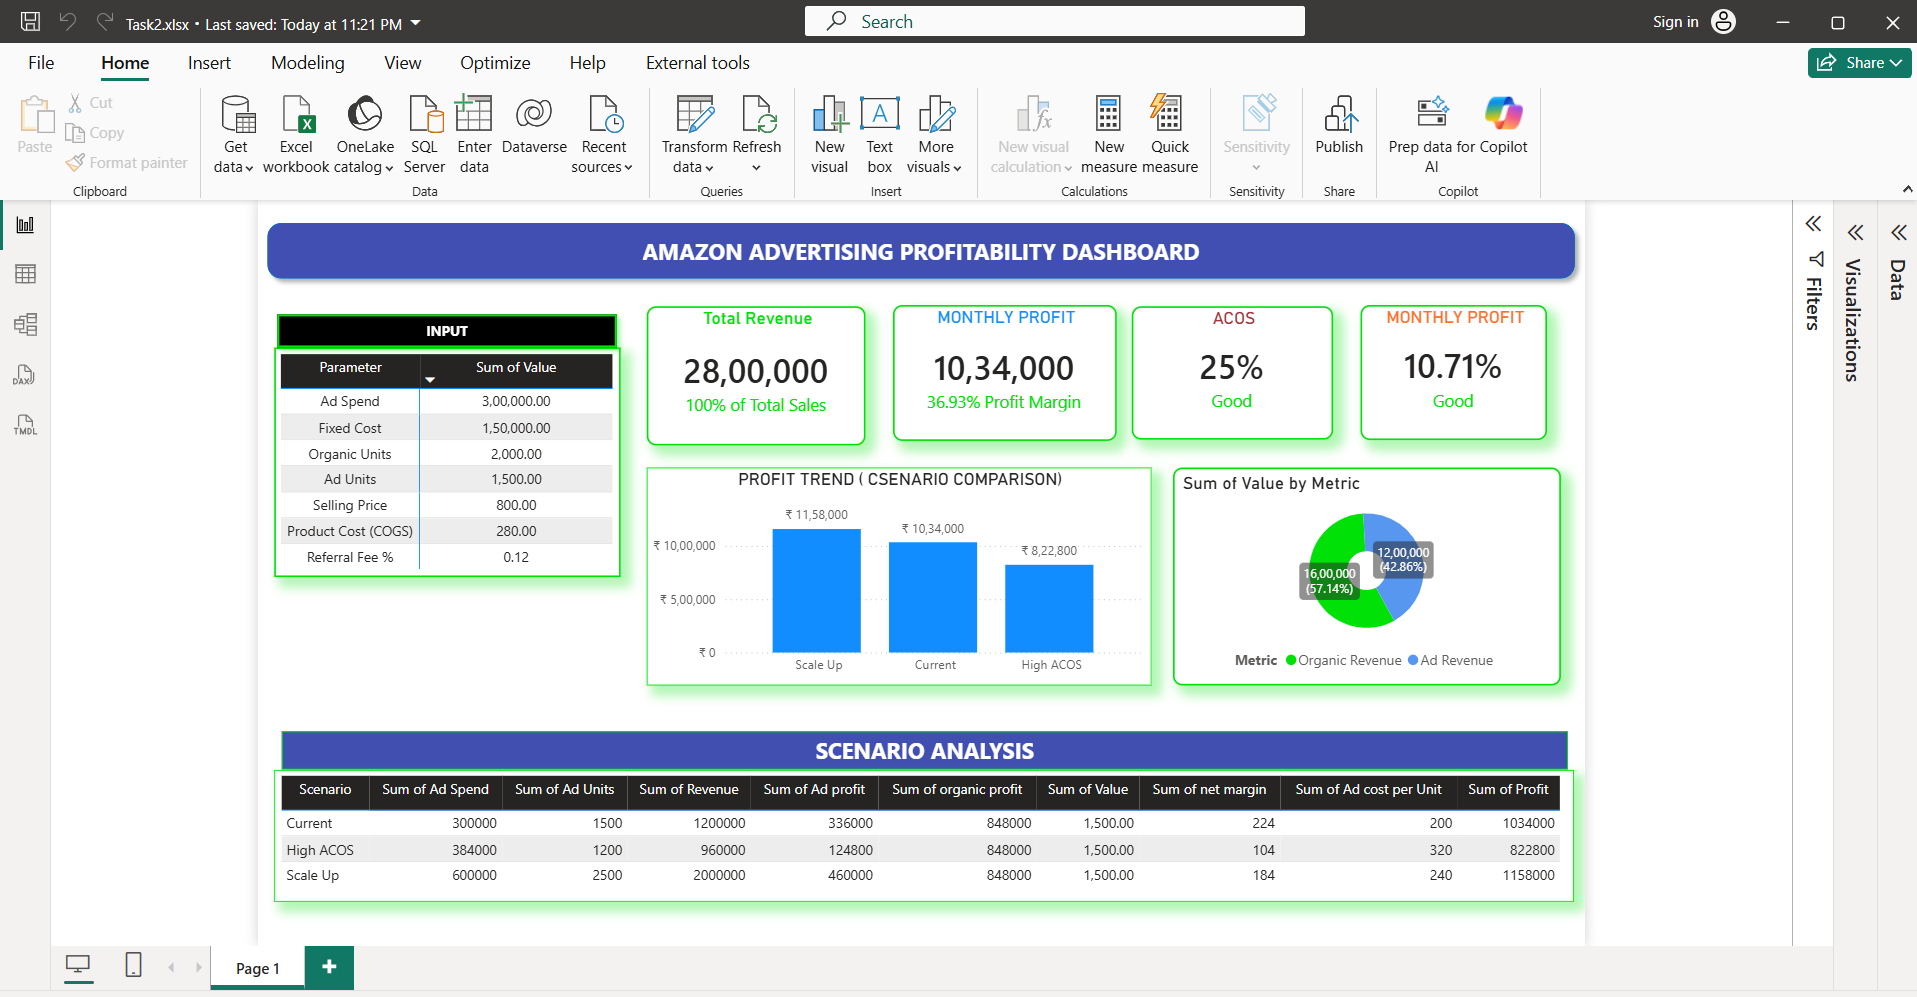

The dashboard page shown, as its layout file describes it:
{"tool":"powerbi","page":{"name":"Page 1","canvas":[1280,720],"ordinal":0},"visuals":[{"type":"cardVisual","title":"Total Revenue","fields":{"Data":["Sum(Sheet4.Value)"]},"box":[375.7,102.9,211.4,134.3],"z":0},{"type":"cardVisual","title":"MONTHLY PROFIT","fields":{"Data":["Sum(Sheet4.Value)"]},"box":[612.9,101.4,215.7,131.4],"z":1000},{"type":"cardVisual","title":"ACOS","fields":{"Data":["Sum(Sheet4.Value)"]},"box":[842.9,102.9,194.3,128.6],"z":2000},{"type":"cardVisual","title":"MONTHLY PROFIT","fields":{"Data":["Sum(Sheet4.Value)"]},"box":[1064.3,101.4,180,130],"z":3000},{"type":"donutChart","fields":{"Y":["Sum(Sheet3.Value)"],"Category":["Sheet3.Metric"]},"box":[882.9,258.6,374.3,210],"z":4000},{"type":"lineClusteredColumnComboChart","title":"PROFIT TREND ( CSENARIO COMPARISON)","fields":{"Category":["Sheet7.Scenario"],"Y":["Sum(Sheet7.Profit)"]},"box":[375.7,258.6,487.1,210],"z":5000},{"type":"pivotTable","fields":{"Rows":["Sheet1.Parameter"],"Values":["Sum(Sheet1.Value)"]},"box":[15.7,142.9,334.3,221.4],"z":6000},{"type":"shape","box":[10,101.4,345.7,50],"z":6001},{"type":"shape","box":[0,12.9,1280,71.4],"z":6002},{"type":"shape","box":[22.9,512.9,1241.4,37.1],"z":6003},{"type":"tableEx","fields":{"Values":["Sheet7.Scenario","Sum(Sheet7.Ad Spend)","Sum(Sheet7.Ad Units)","Sum(Sheet7.Revenue)","Sum(Sheet7.Ad profit)","Sum(Sheet7.organic profit)","Sum(Sheet1.Value)","Sum(Sheet7.net margin)","Sum(Sheet7.Ad cost per Unit)","Sum(Sheet7.Profit)"]},"box":[15.7,550,1254.3,127.1],"z":6004}]}

Visuals, with their boxes on the page's 1280x720 design canvas (x1, y1, x2, y2). These are canvas units, not pixel positions in the 1917x997 screenshot, which may show the page scaled, cropped or inside an application window:
"Total Revenue" cardVisual: Rect(376, 103, 587, 237)
"MONTHLY PROFIT" cardVisual: Rect(613, 101, 829, 233)
"ACOS" cardVisual: Rect(843, 103, 1037, 232)
"MONTHLY PROFIT" cardVisual: Rect(1064, 101, 1244, 231)
donutChart - Sum(Sheet3.Value) x Sheet3.Metric: Rect(883, 259, 1257, 469)
"PROFIT TREND ( CSENARIO COMPARISON)" lineClusteredColumnComboChart: Rect(376, 259, 863, 469)
pivotTable - Sheet1.Parameter x Sum(Sheet1.Value): Rect(16, 143, 350, 364)
shape: Rect(10, 101, 356, 151)
shape: Rect(0, 13, 1280, 84)
shape: Rect(23, 513, 1264, 550)
tableEx - Sheet7.Scenario x Sum(Sheet7.Ad Spend): Rect(16, 550, 1270, 677)
